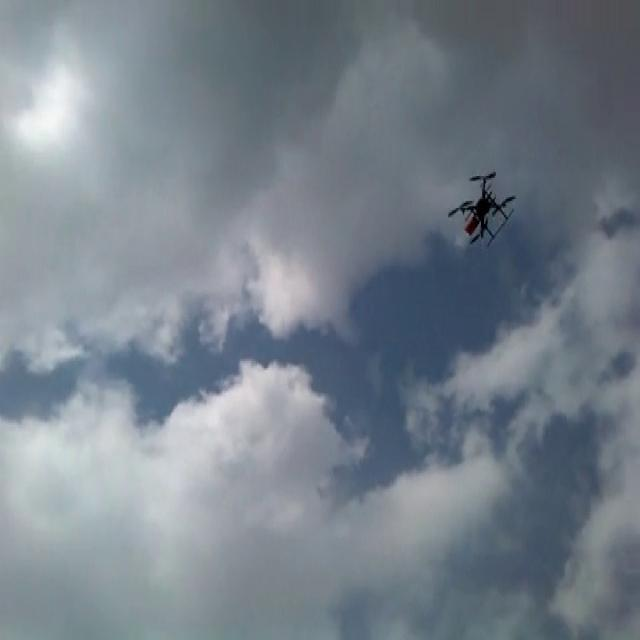drone: (442, 165, 518, 251)
